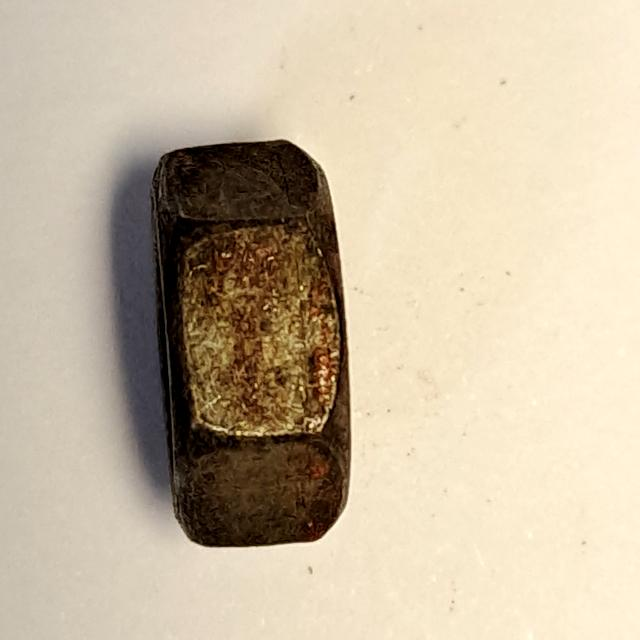Side_Rust: (139, 120, 378, 566)
